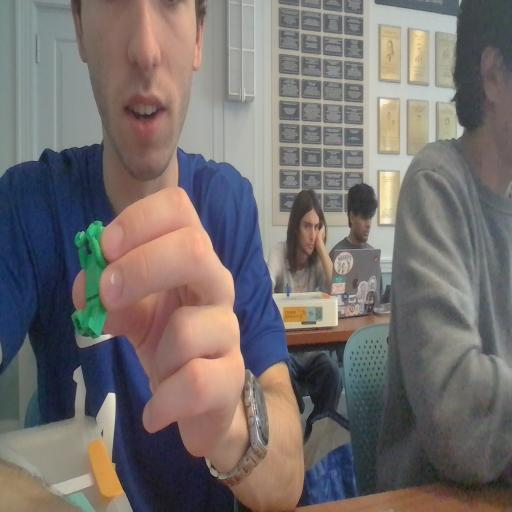green LEGO minifig: (74, 204, 113, 352)
